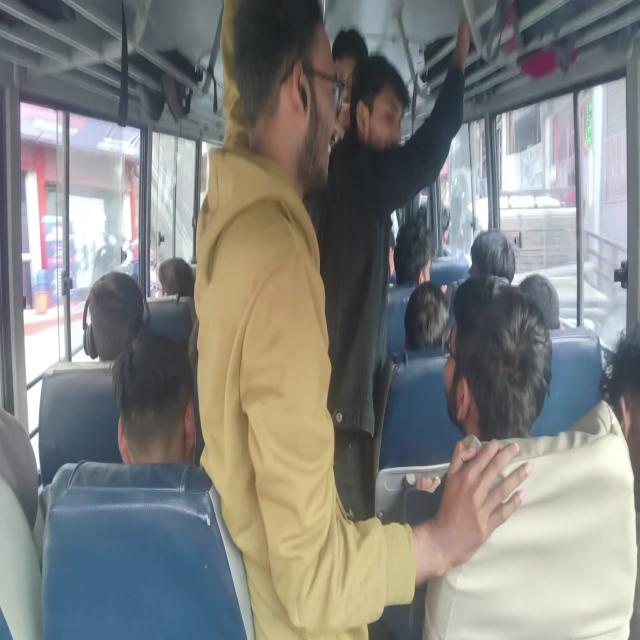person: (260, 47, 370, 212), (89, 272, 230, 399), (445, 285, 571, 389), (0, 392, 59, 534), (519, 282, 604, 378), (146, 332, 228, 423), (377, 220, 438, 290), (604, 348, 640, 453), (336, 26, 374, 109), (409, 302, 461, 361), (370, 58, 395, 171), (166, 246, 205, 311), (482, 226, 514, 282)
